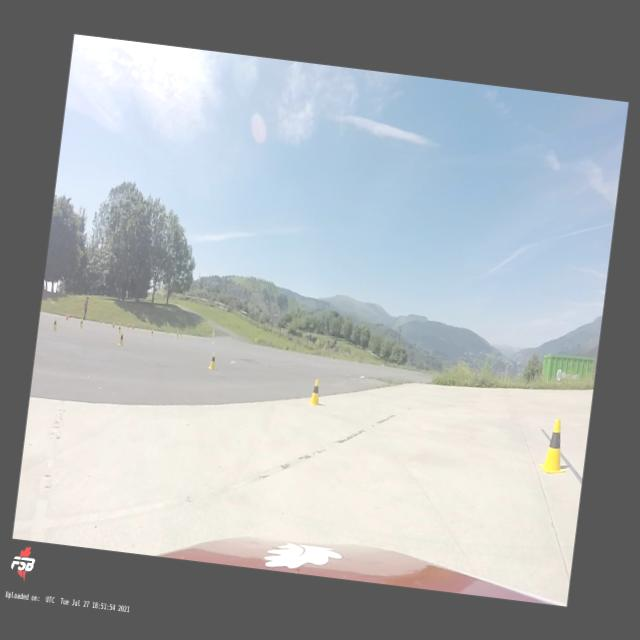yellow_cone: (537, 417, 571, 475), (308, 378, 322, 406), (208, 352, 218, 369), (118, 332, 126, 346), (52, 318, 58, 330), (79, 318, 83, 328), (117, 324, 121, 334), (150, 328, 154, 336), (176, 330, 178, 338)
